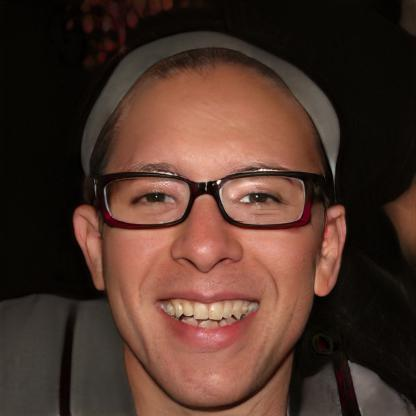glasses: (95, 164, 319, 235)
